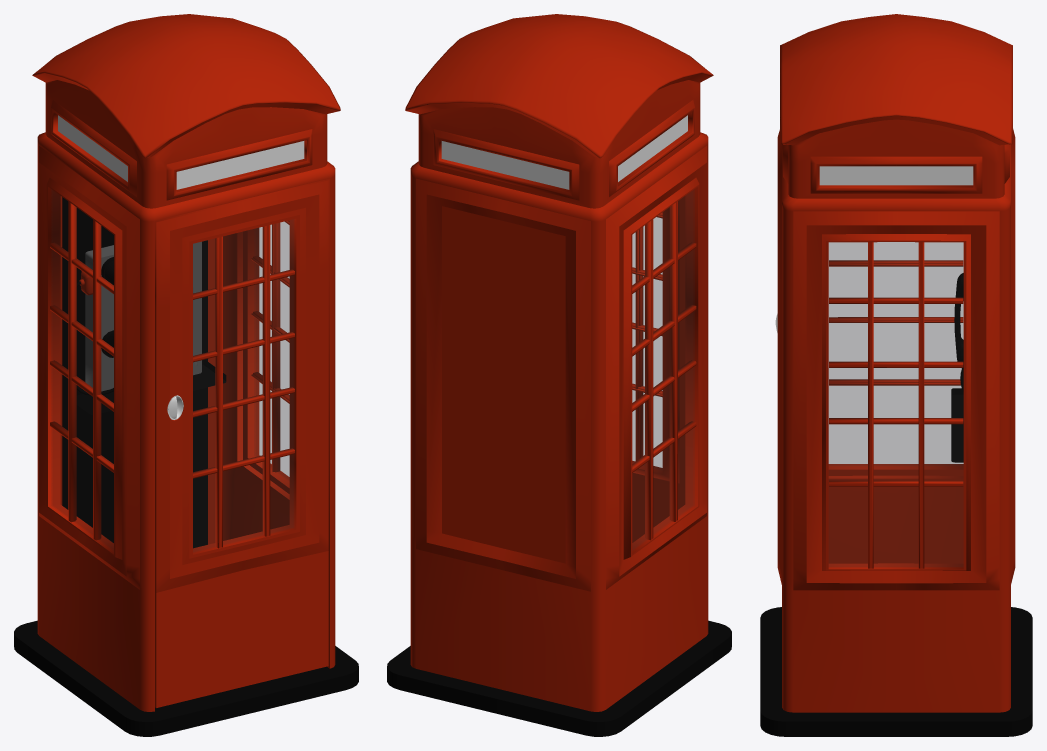
The model's file is phone_booth (1).fbx.
The picture shows the model from 3 angles, left to right: view 1: azimuth 30°, elevation 25°; view 2: azimuth 150°, elevation 25°; view 3: azimuth 270°, elevation 25°; orthographic projection. The views are drawn at different scales.
Visible parts, largest first — view 1: exterior, door, floor, module; view 2: exterior, floor, door; view 3: exterior, floor, door, phone.
Boxes of the visible parts, x1,y1,x2,y2 form: exterior: [32, 14, 340, 711]; door: [155, 179, 328, 707]; floor: [14, 620, 358, 736]; module: [79, 241, 201, 391]; exterior: [405, 14, 713, 711]; floor: [387, 620, 731, 736]; door: [632, 196, 685, 542]; exterior: [780, 14, 1015, 712]; floor: [760, 607, 1032, 736]; door: [775, 130, 781, 584]; phone: [954, 273, 963, 369].
Bounding box in the file's own units: 267 × 696 × 267.
